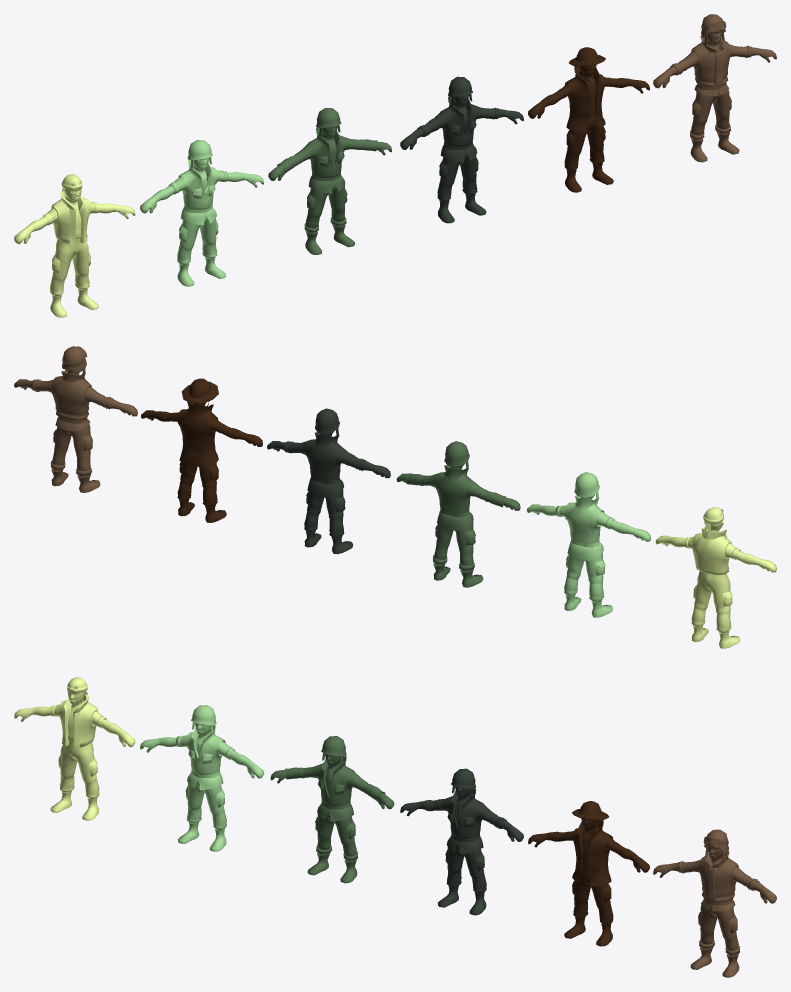
File: Vietnam_Pack_OBJ.obj
The picture shows the model from 3 angles, top to bottom: view 1: azimuth 30°, elevation 25°; view 2: azimuth 150°, elevation 25°; view 3: azimuth 330°, elevation 25°; orthographic projection.
Visible parts, largest first — view 1: Tank_Commander, Light_Assault_2, Scout, Medic, Light_Assault, Heavy_Assault; view 2: Tank_Commander, Scout, Light_Assault_2, Medic, Light_Assault, Heavy_Assault; view 3: Tank_Commander, Light_Assault_2, Scout, Medic, Light_Assault, Heavy_Assault.
Part boxes in pixels (<box>): Tank_Commander: <box>653,14,776,162</box>; Light_Assault_2: <box>268,108,391,254</box>; Scout: <box>528,47,649,192</box>; Medic: <box>400,76,523,223</box>; Light_Assault: <box>140,140,263,286</box>; Heavy_Assault: <box>14,174,135,317</box>; Tank_Commander: <box>14,346,137,492</box>; Scout: <box>141,378,262,522</box>; Light_Assault_2: <box>396,441,520,587</box>; Medic: <box>267,408,390,554</box>; Light_Assault: <box>526,472,650,617</box>; Heavy_Assault: <box>655,507,776,648</box>; Tank_Commander: <box>653,829,776,977</box>; Light_Assault_2: <box>270,736,394,883</box>; Scout: <box>528,801,649,946</box>; Medic: <box>400,768,523,915</box>; Light_Assault: <box>140,705,264,851</box>; Heavy_Assault: <box>14,677,135,820</box>.
Size of the model in its own units: 83.63 by 14.46 by 3.66.
